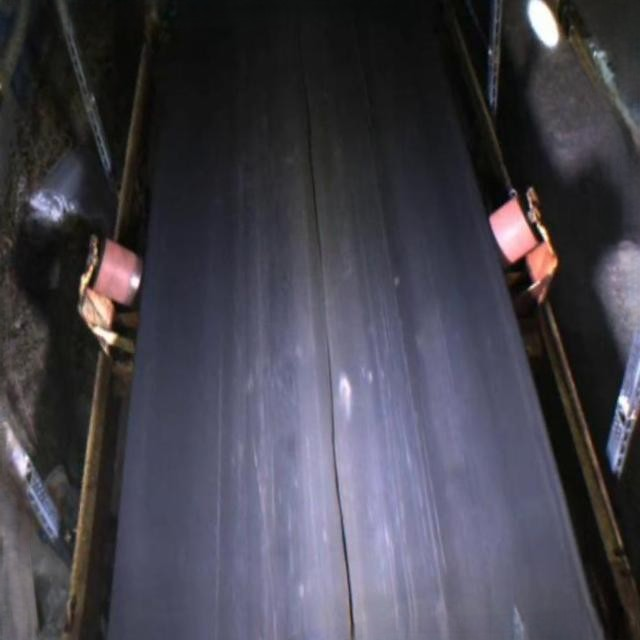Tear: (290, 48, 364, 640)
